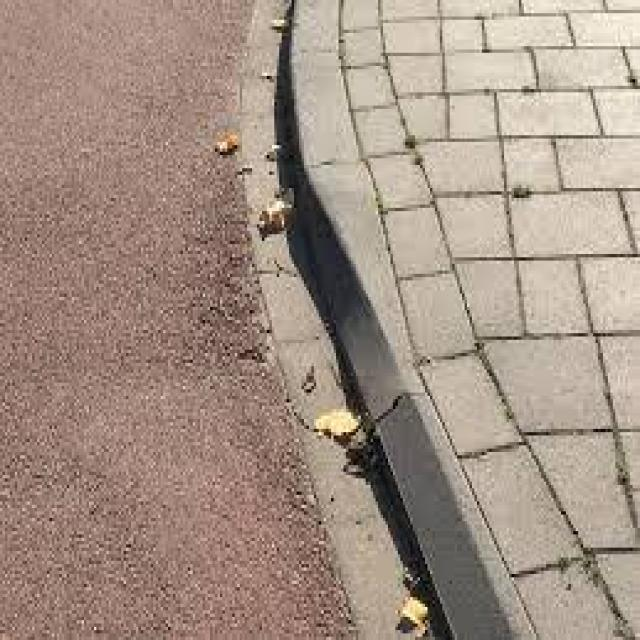bump: (338, 349, 540, 640), (251, 108, 401, 392)
